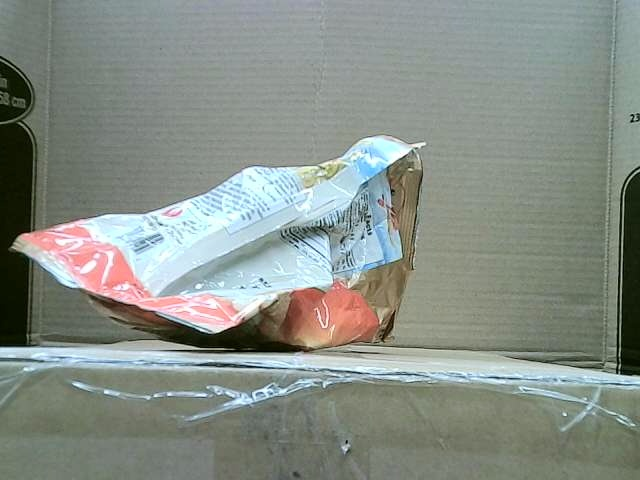Chips: (10, 135, 427, 348)
